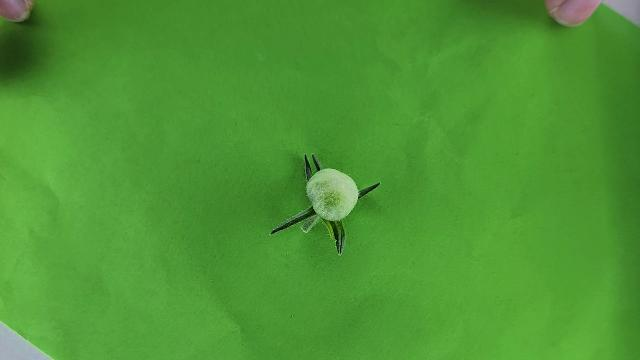Fruit Maturation: (306, 168, 359, 221)
